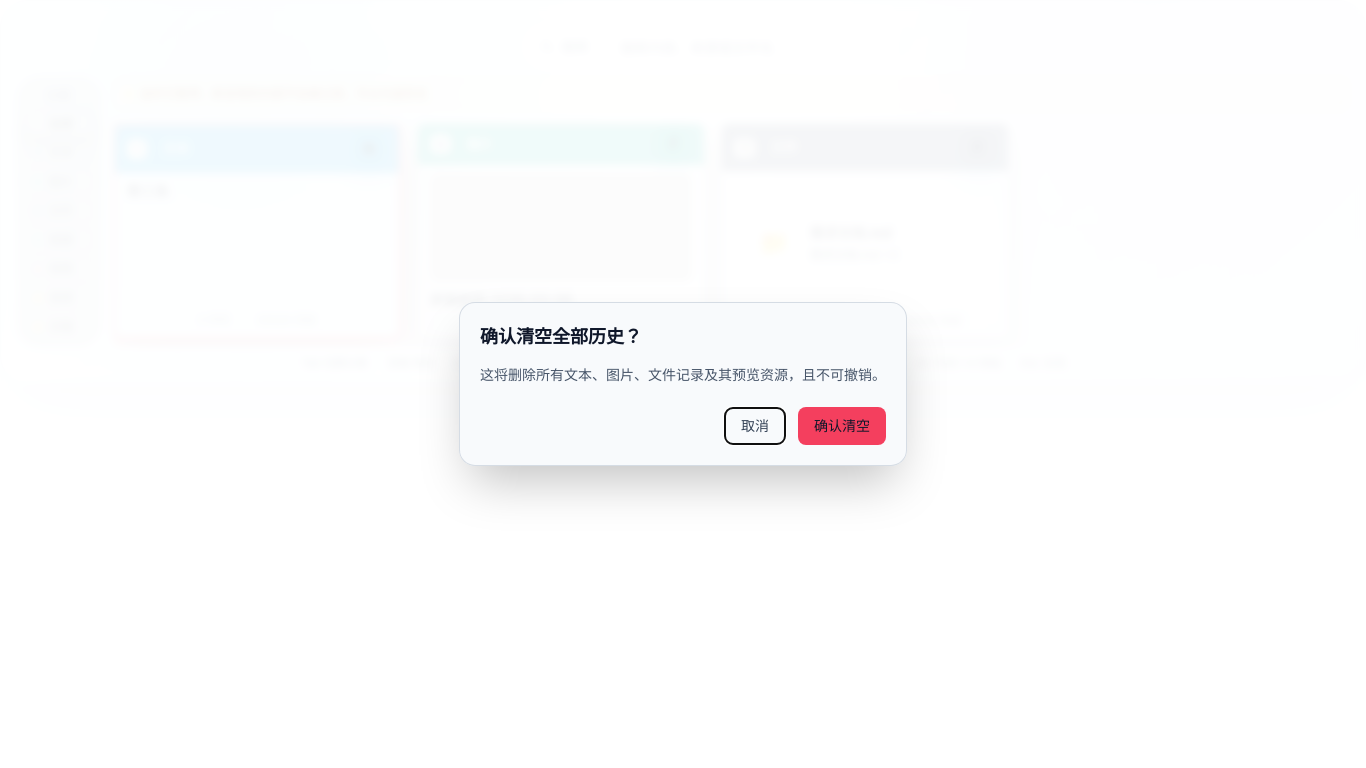
Test case: App › 清空历史失败时显示错误提示且保留确认弹窗
The image size is (1366, 768).
Expected: the element with test id "card-list" is shown, 113,123 -> 1009,338
Step 1. Click the button with test id "confirm-dialog-confirm" → {"x": 842, "y": 426}, box 798,407 -> 886,445
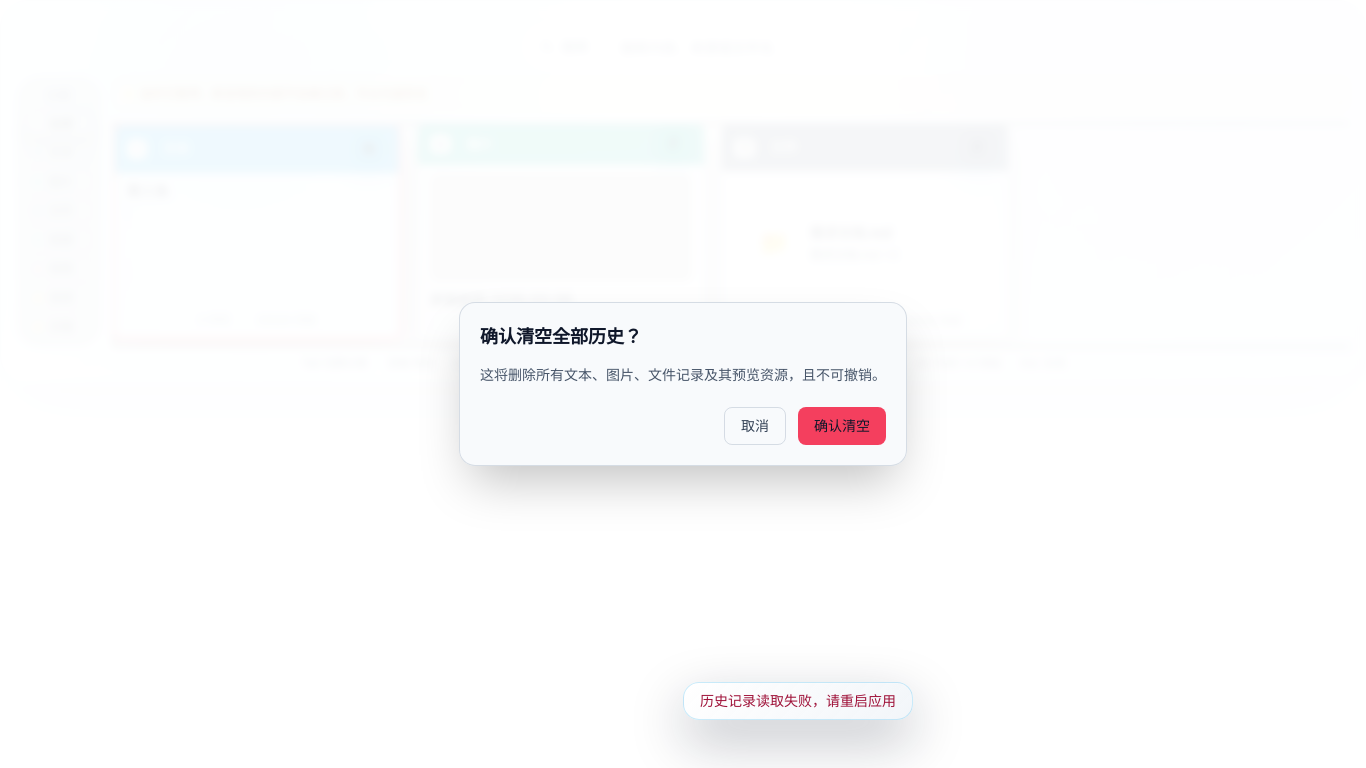
Now the text with test id "toast" reads "历史记录读取失败，请重启应用", box 700,692 -> 896,709
